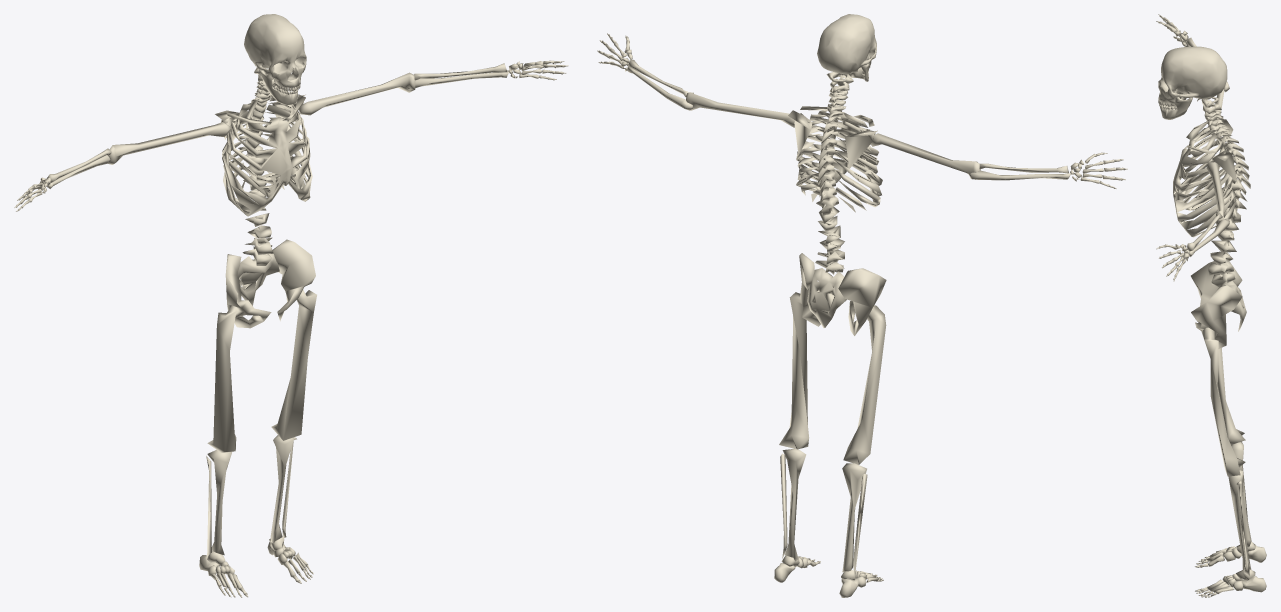
File: human-skeleton-lofi.fbx
The picture shows the model from 3 angles, left to right: view 1: azimuth 30°, elevation 25°; view 2: azimuth 150°, elevation 25°; view 3: azimuth 270°, elevation 25°; orthographic projection. The views are drawn at different scales.
Visible parts, largest first — view 1: chest, thigh, hips, head, shin, upper_arm, forearm, foot; view 2: chest, thigh, hips, shin, head, upper_arm, forearm, shoulder, foot, spine, neck; view 3: chest, head, hips, thigh, foot, shin, shoulder, forearm, spine, upper_arm, neck, toe (+1 smaller).
Part boxes in pixels (<box>): chest: <box>222,92,312,216</box>; thigh: <box>207,289,316,452</box>; hips: <box>225,237,315,328</box>; head: <box>244,14,306,105</box>; shin: <box>206,435,296,556</box>; upper_arm: <box>108,72,415,164</box>; forearm: <box>46,63,508,188</box>; foot: <box>199,536,307,589</box>; chest: <box>796,108,882,215</box>; thigh: <box>779,292,886,464</box>; hips: <box>799,250,886,335</box>; shin: <box>780,448,867,576</box>; head: <box>817,14,876,81</box>; upper_arm: <box>686,92,980,179</box>; forearm: <box>627,60,1070,180</box>; shoulder: <box>788,106,877,168</box>; foot: <box>774,555,878,597</box>; spine: <box>818,207,844,251</box>; neck: <box>826,72,853,111</box>; chest: <box>1173,125,1250,237</box>; head: <box>1158,46,1227,119</box>; hips: <box>1191,261,1246,348</box>; thigh: <box>1201,327,1245,476</box>; foot: <box>1207,541,1266,593</box>; shin: <box>1228,441,1251,576</box>; shoulder: <box>1186,118,1237,182</box>; forearm: <box>1186,37,1229,256</box>; spine: <box>1210,219,1238,264</box>; upper_arm: <box>1206,88,1224,225</box>; neck: <box>1201,97,1226,131</box>; toe: <box>1195,556,1216,597</box>.
Bounding box in the file's own units: 194 × 193 × 36.42.
